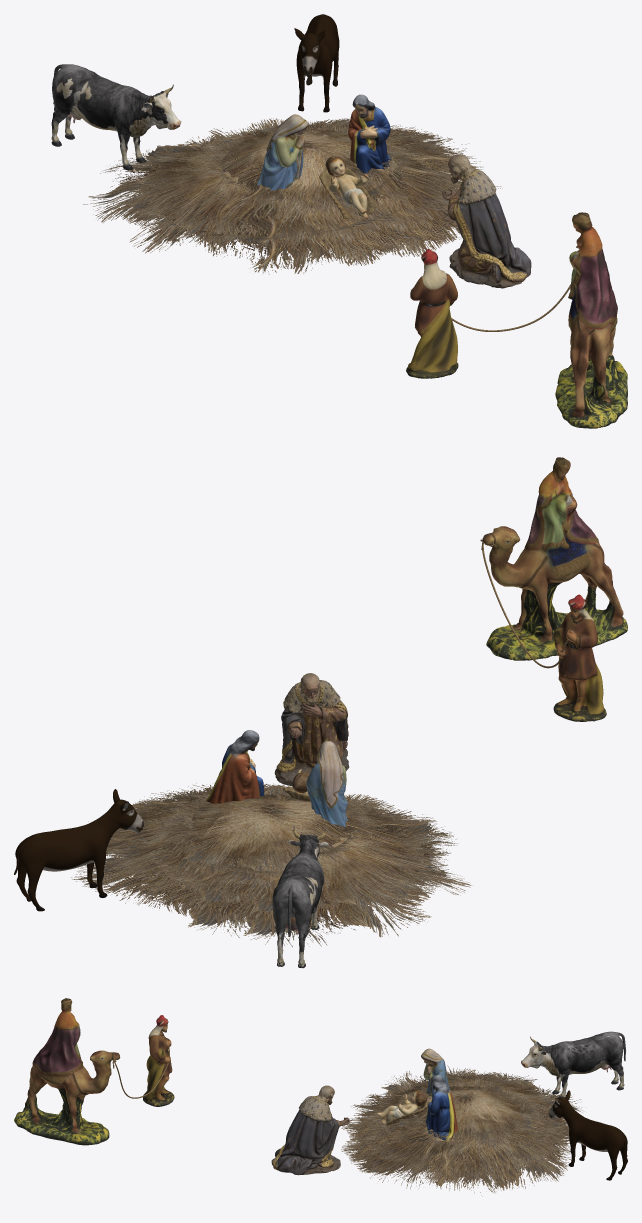
Rendered from nativita.glb.
3 renders of one model, top to bottom at view 1: azimuth 30°, elevation 25°; view 2: azimuth 150°, elevation 25°; view 3: azimuth 270°, elevation 25°, orthographic. The views are drawn at different scales.
Visible parts, largest first — view 1: Reis_Conj_3, StrawLayer.005_5, StrawLayer.004_4, StrawLayer.007_7, Object_2, Line01, StrawLayer.001_1, Donkey_2, StrawLayer_0, SJose_LP2, SMaria_LP2, StrawLayer.002_2 (+7 smaller); view 2: Reis_Conj_3, StrawLayer.007_7, StrawLayer.005_5, StrawLayer.004_4, Donkey_2, Object_2, StrawLayer.001_1, StrawLayer_0, Line01, StrawLayer.002_2, SJose_LP2, SMaria_LP2 (+4 smaller); view 3: Reis_Conj_3, StrawLayer.001_1, StrawLayer_0, StrawLayer.007_7, Object_2, Line01, StrawLayer.002_2, StrawLayer.005_5, Donkey_2, StrawLayer.004_4, SJose_LP2, StrawLayer.010_10 (+5 smaller).
Part boxes in pixels (<box>): Reis_Conj_3: <box>406,212,627,428</box>; StrawLayer.005_5: <box>117,136,400,250</box>; StrawLayer.004_4: <box>83,132,424,274</box>; StrawLayer.007_7: <box>198,122,402,211</box>; Object_2: <box>442,154,531,288</box>; Line01: <box>51,64,181,170</box>; StrawLayer.001_1: <box>210,118,461,240</box>; Donkey_2: <box>294,14,339,112</box>; StrawLayer_0: <box>136,118,502,265</box>; SJose_LP2: <box>348,94,393,174</box>; SMaria_LP2: <box>257,114,308,190</box>; StrawLayer.002_2: <box>197,126,476,221</box>; Reis_Conj_3: <box>480,457,627,721</box>; StrawLayer.007_7: <box>162,791,381,874</box>; StrawLayer.005_5: <box>157,797,442,920</box>; StrawLayer.004_4: <box>125,794,471,947</box>; Donkey_2: <box>14,789,144,911</box>; Object_2: <box>274,673,349,785</box>; StrawLayer.001_1: <box>105,784,285,911</box>; StrawLayer_0: <box>71,783,378,937</box>; Line01: <box>272,826,328,968</box>; StrawLayer.002_2: <box>113,789,372,892</box>; SJose_LP2: <box>204,730,264,803</box>; SMaria_LP2: <box>306,740,347,826</box>; Reis_Conj_3: <box>14,998,174,1145</box>; StrawLayer.001_1: <box>363,1117,565,1176</box>; StrawLayer_0: <box>341,1117,571,1196</box>; StrawLayer.007_7: <box>397,1083,540,1144</box>; Object_2: <box>271,1085,349,1175</box>; Line01: <box>521,1031,625,1098</box>; StrawLayer.002_2: <box>381,1100,550,1183</box>; StrawLayer.005_5: <box>362,1072,560,1144</box>; Donkey_2: <box>548,1090,627,1180</box>; StrawLayer.004_4: <box>341,1071,582,1160</box>; SJose_LP2: <box>425,1075,457,1141</box>; StrawLayer.010_10: <box>372,1065,557,1147</box>.
Bounding box in the file's own units: 4.37 × 2 × 7.92.
Materials: 13 (12 with a texture image).
